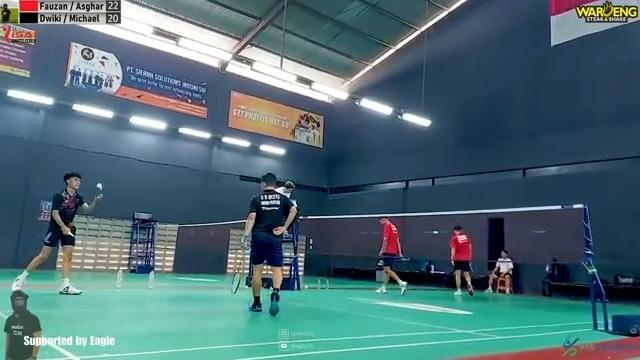Shuttlecock: (95, 180, 106, 192)
